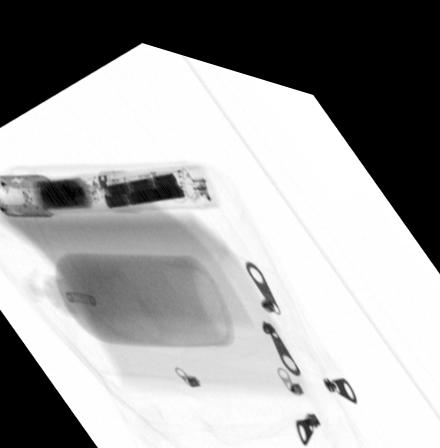Baton: (0, 150, 221, 216)
